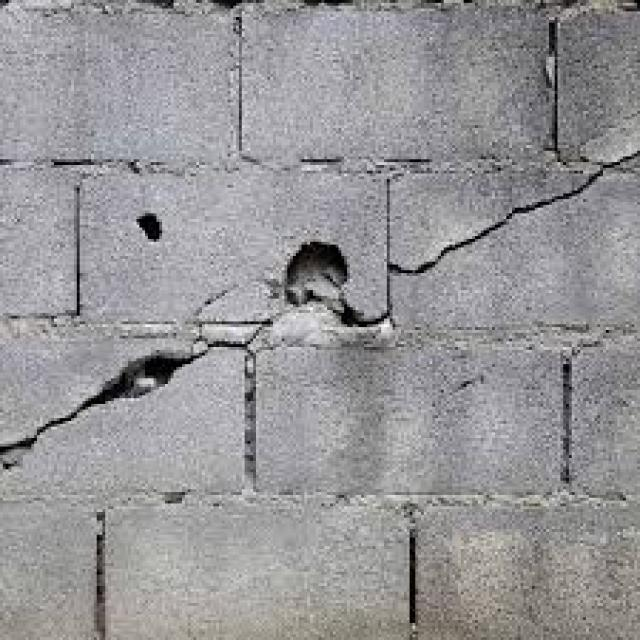Crack: (0, 222, 387, 458), (387, 148, 634, 279), (541, 3, 637, 168)
